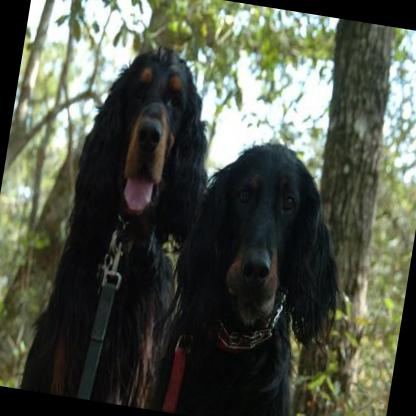Gordon_setter: (21, 30, 224, 408), (153, 129, 362, 416)
